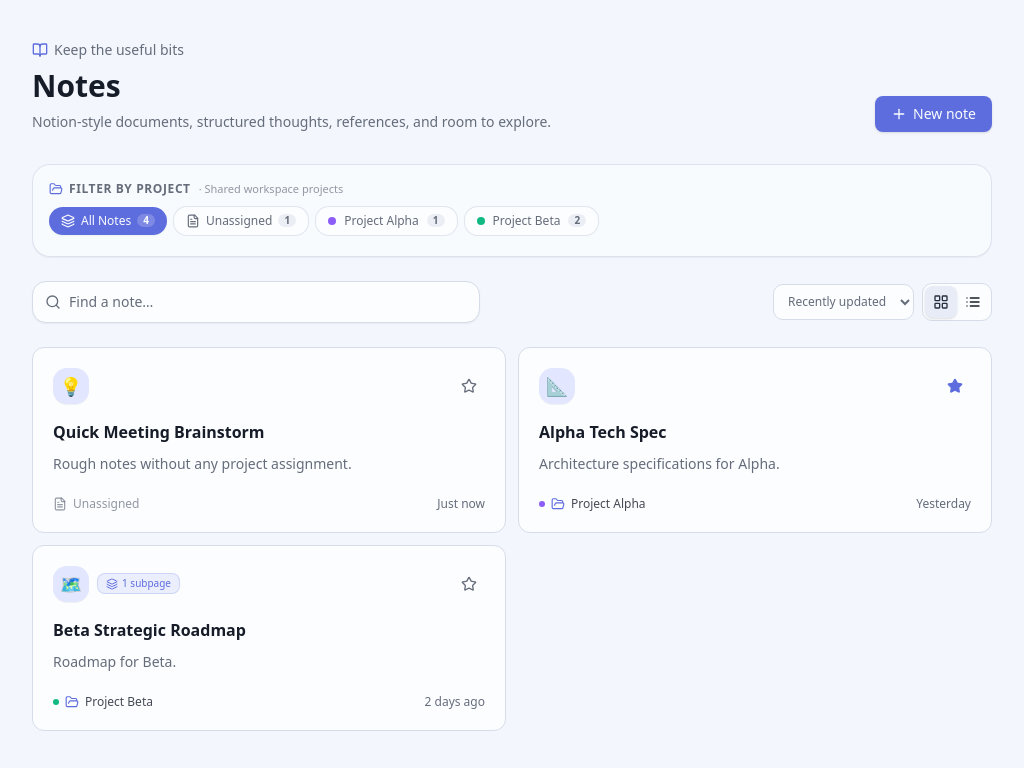
MindDesk Notes & Projects UX › creates a note pre-assigned to a project when explicitly filtered by that project
# Click on Project Alpha filter pill
Click the button "Project Alpha 1" at coordinates (386, 220), box [315,206,458,236]
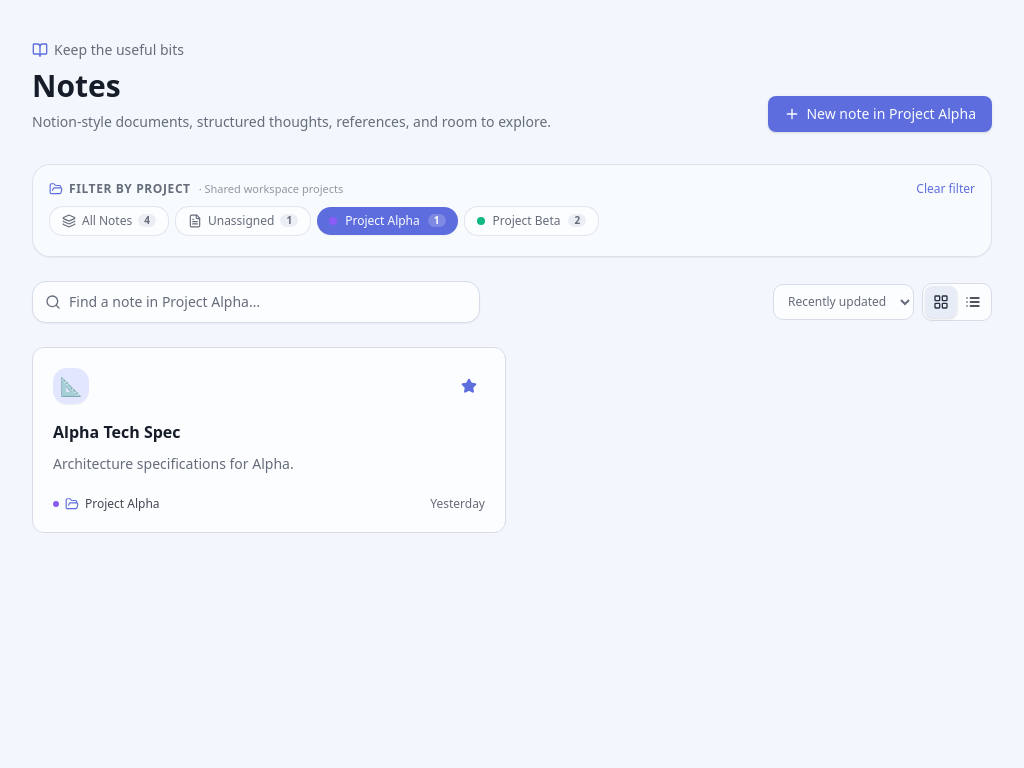
Result: the button "New note in Project Alpha" is shown
Click the button "New note in Project Alpha" at coordinates (880, 114), box [768,96,992,132]
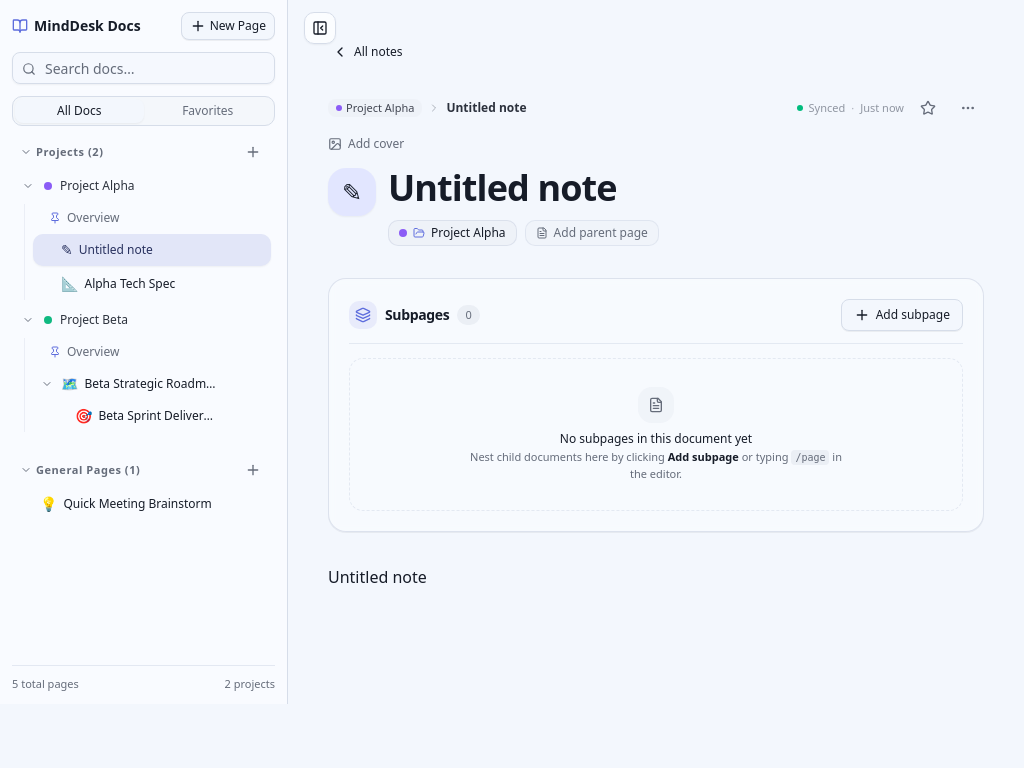
Result: the button with aria-label "Project assignment" reads "Project Alpha" at [388,220,517,246]
Result: the field showing "Untitled note" is shown at [388,168,984,208]
